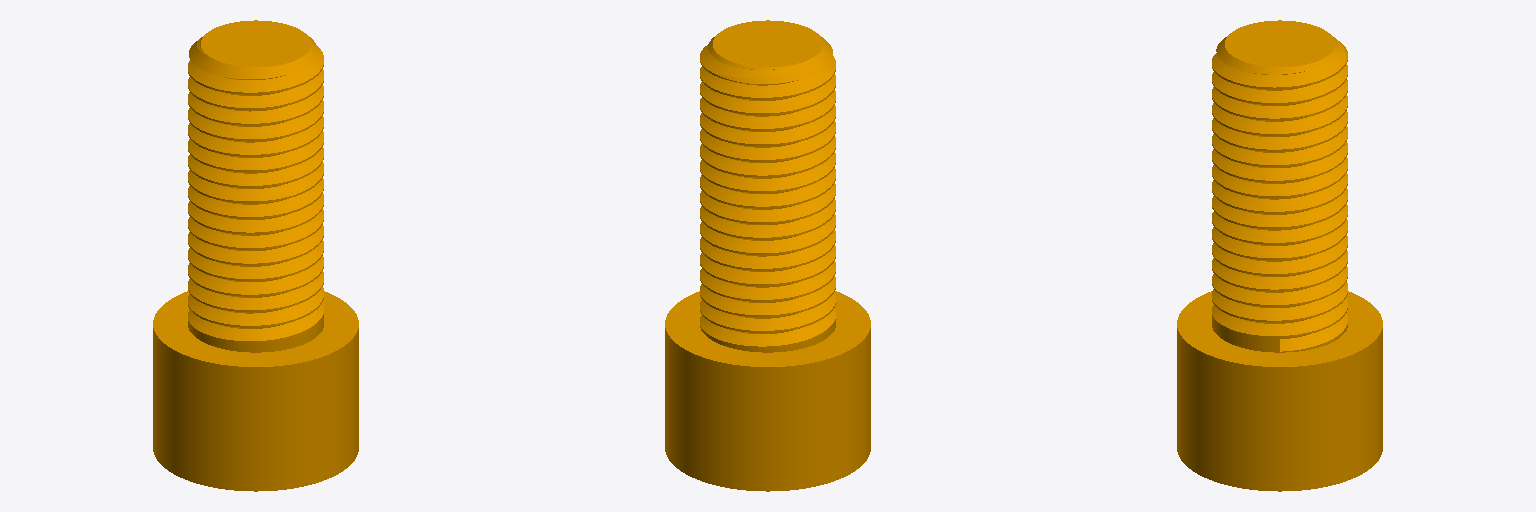
URDF robot description (factory_bolt_m20_tight):
<?xml version="1.0"?>
<robot name="factory_bolt_m20_tight">
    <link name="factory_bolt_m20_tight">
        <visual>
            <geometry>
                <mesh filename="../mesh/factory_nut_bolt/factory_bolt_m20_tight.obj"/>
            </geometry>
        </visual>
        <collision>
            <geometry>
                <mesh filename="../mesh/factory_nut_bolt/factory_bolt_m20_tight.obj"/>
            </geometry>
            <sdf resolution="512"/>
        </collision>
    </link>
</robot>

--- Render facts (derived) ---
Views: 3 orthographic renders of the robot side by side, from view 1: azimuth 30°, elevation 25°; view 2: azimuth 150°, elevation 25°; view 3: azimuth 270°, elevation 25°.
Model factory_bolt_m20_tight with 1 links and 0 joints (none), rooted at factory_bolt_m20_tight, posed every joint at zero.
Links seen in each view (by area): view 1: factory_bolt_m20_tight; view 2: factory_bolt_m20_tight; view 3: factory_bolt_m20_tight.
Boxes of the visible links, <box> form: factory_bolt_m20_tight: <box>153,20,358,491</box>; factory_bolt_m20_tight: <box>665,20,870,491</box>; factory_bolt_m20_tight: <box>1177,20,1382,491</box>.
Size in the robot's own frame: 0.03 by 0.03 by 0.065 metres.
1 mesh visuals loaded from 1 distinct referenced files (1 OBJ).